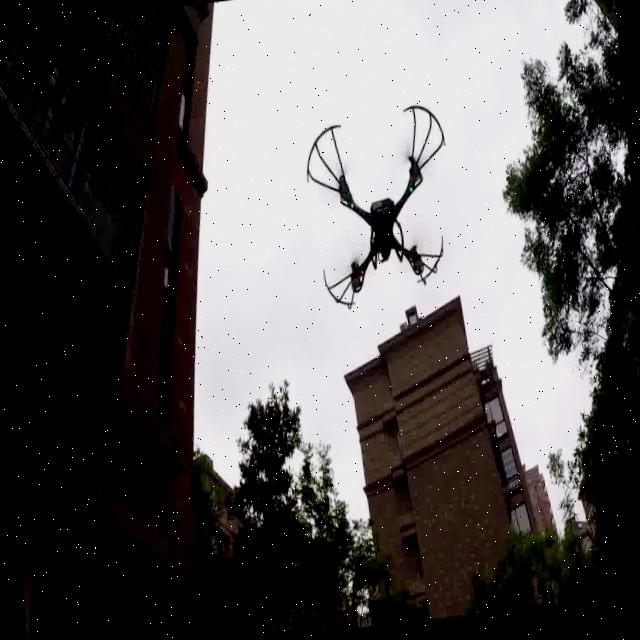drone: (274, 86, 457, 335)
